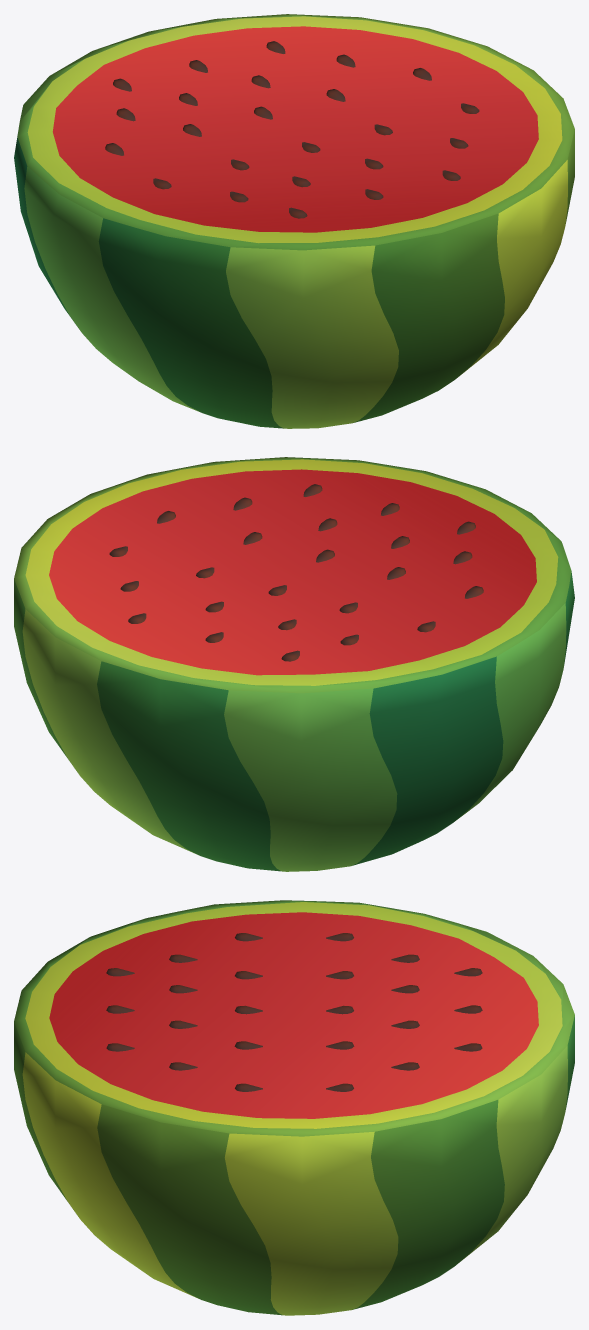
File: watermelon_002.fbx
3 renders of one model, top to bottom at view 1: azimuth 30°, elevation 25°; view 2: azimuth 150°, elevation 25°; view 3: azimuth 270°, elevation 25°, orthographic.
Parts seen in each view (by area): view 1: watermelon_002; view 2: watermelon_002; view 3: watermelon_002.
Part boxes in pixels (x1,y1,x2,y2): watermelon_002: [14, 14, 574, 428]; watermelon_002: [14, 457, 574, 871]; watermelon_002: [14, 900, 574, 1315].
Size of the model in its own units: 20.05 by 19.98 by 10.75.
